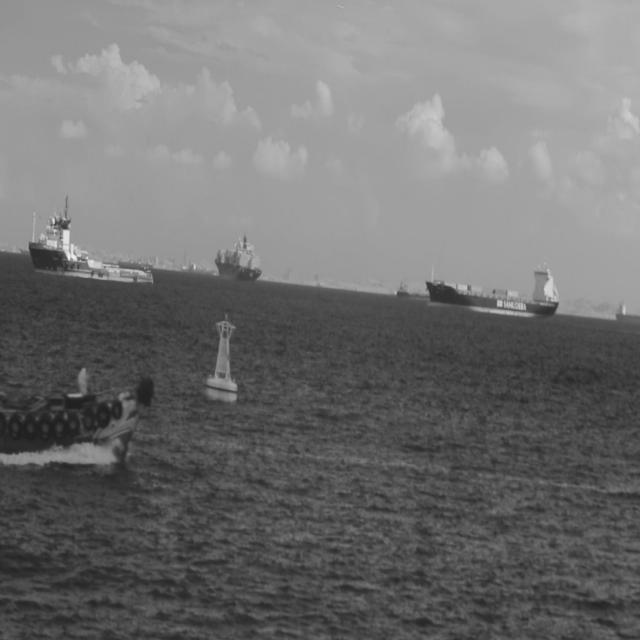buoy: (204, 312, 238, 405)
ship: (0, 362, 155, 471), (27, 194, 154, 285), (423, 252, 559, 319), (214, 230, 262, 284), (397, 278, 429, 300), (180, 260, 215, 276), (118, 257, 152, 270), (139, 265, 151, 272)
